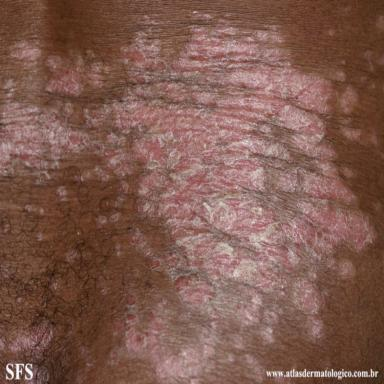Psoriasis: (0, 15, 377, 384), (8, 324, 53, 357), (8, 40, 41, 62), (338, 85, 359, 115), (342, 127, 361, 141), (65, 248, 80, 263), (365, 50, 373, 72), (331, 70, 347, 81), (343, 167, 353, 178)
